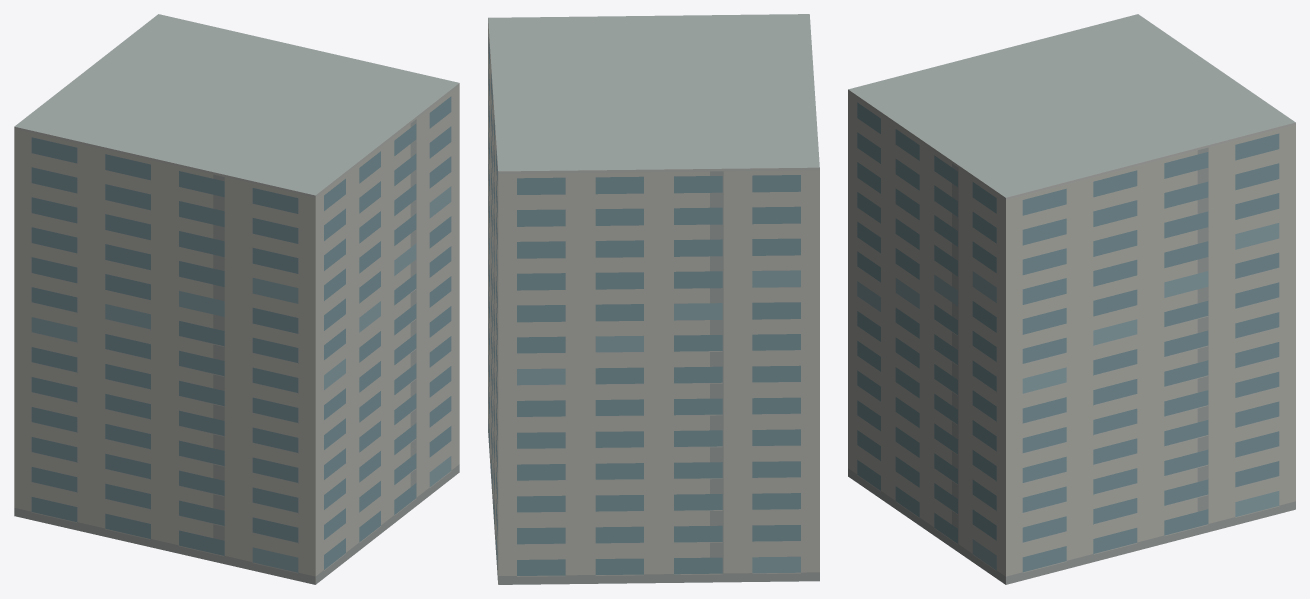
Rendered from residential-7e598fed-4ce7-4fb6-878c-aff84ba7e35c.glb.
3 renders of one model, left to right at view 1: azimuth 30°, elevation 25°; view 2: azimuth 150°, elevation 25°; view 3: azimuth 270°, elevation 25°, orthographic. The views are drawn at different scales.
Parts seen in each view (by area): view 1: residential-7e598fed-4ce7-4fb6-878c-aff84ba7e35c.tmp; view 2: residential-7e598fed-4ce7-4fb6-878c-aff84ba7e35c.tmp; view 3: residential-7e598fed-4ce7-4fb6-878c-aff84ba7e35c.tmp.
Part boxes in pixels (<box>): residential-7e598fed-4ce7-4fb6-878c-aff84ba7e35c.tmp: <box>14,14,459,584</box>; residential-7e598fed-4ce7-4fb6-878c-aff84ba7e35c.tmp: <box>488,14,819,584</box>; residential-7e598fed-4ce7-4fb6-878c-aff84ba7e35c.tmp: <box>848,14,1295,584</box>.
Size of the model in its own units: 40.74 by 40 by 41.94.
